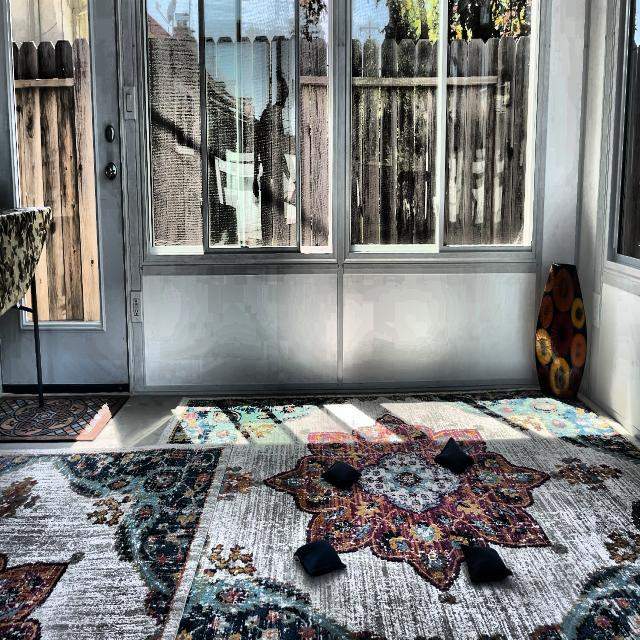blue-bean-bag: (460, 542, 514, 580), (294, 538, 346, 577), (434, 437, 475, 473), (322, 458, 361, 484)
